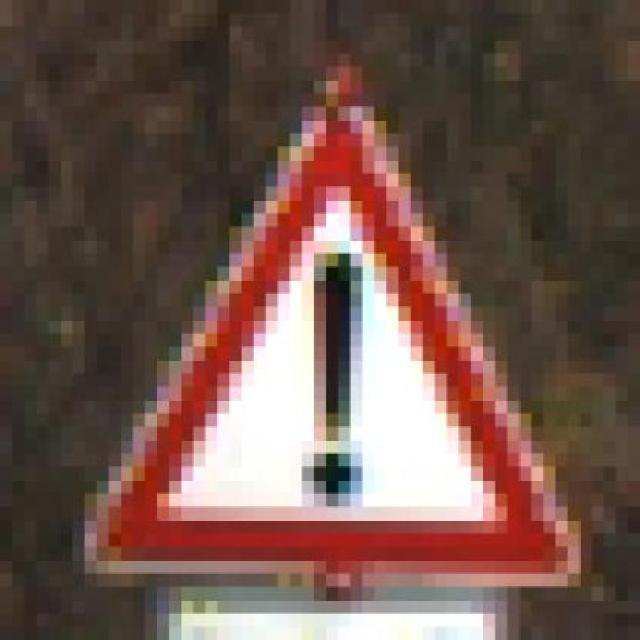Attention Please-: (61, 80, 604, 600)
